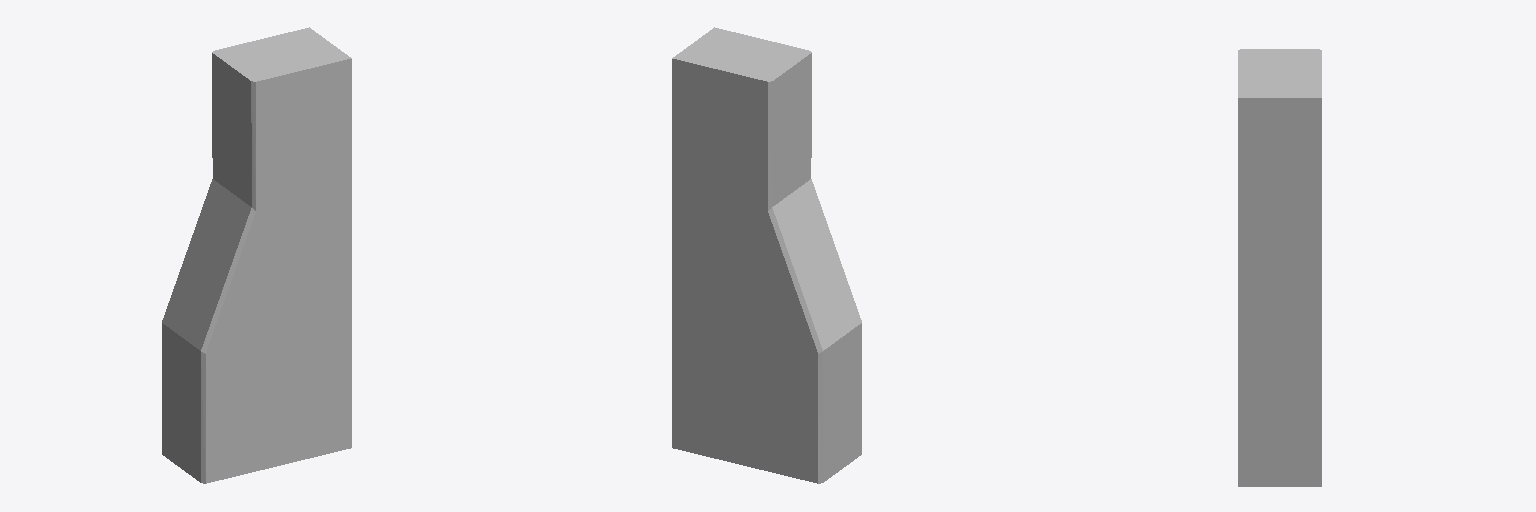
The model's file is Corridor_Doors.obj.
3 renders of one model, left to right at view 1: azimuth 30°, elevation 25°; view 2: azimuth 150°, elevation 25°; view 3: azimuth 270°, elevation 25°, orthographic.
Visible parts, largest first — view 1: Doors2_Cube.035; view 2: Doors2_Cube.035; view 3: Doors2_Cube.035.
Part boxes in pixels (x1,y1,x2,y2): Doors2_Cube.035: (162,27,351,483); Doors2_Cube.035: (672,27,861,483); Doors2_Cube.035: (1238,49,1321,486).
Size of the model in its own units: 1.22 by 3.05 by 0.6022.